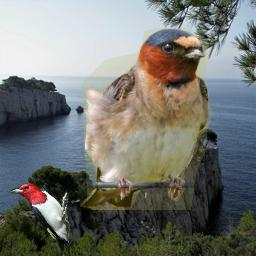Swallow: (80, 28, 213, 210)
Woodpecker: (8, 183, 72, 251)
